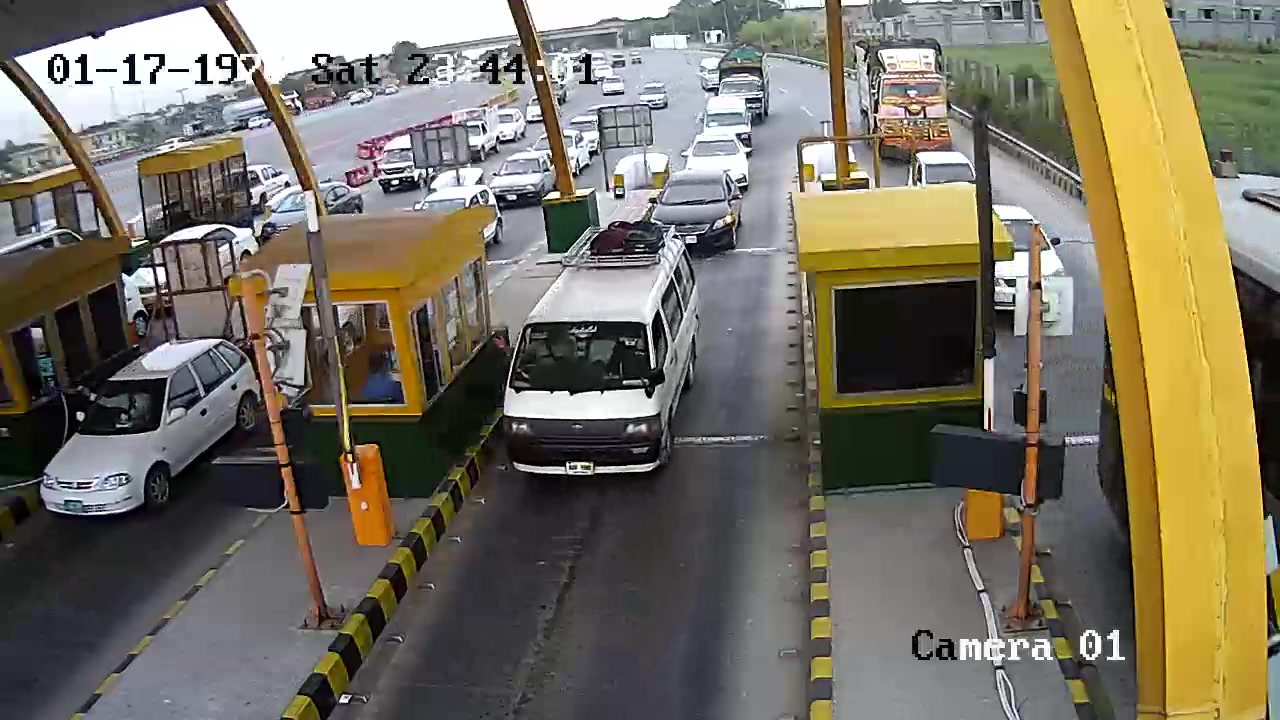F3: (500, 220, 708, 498)
